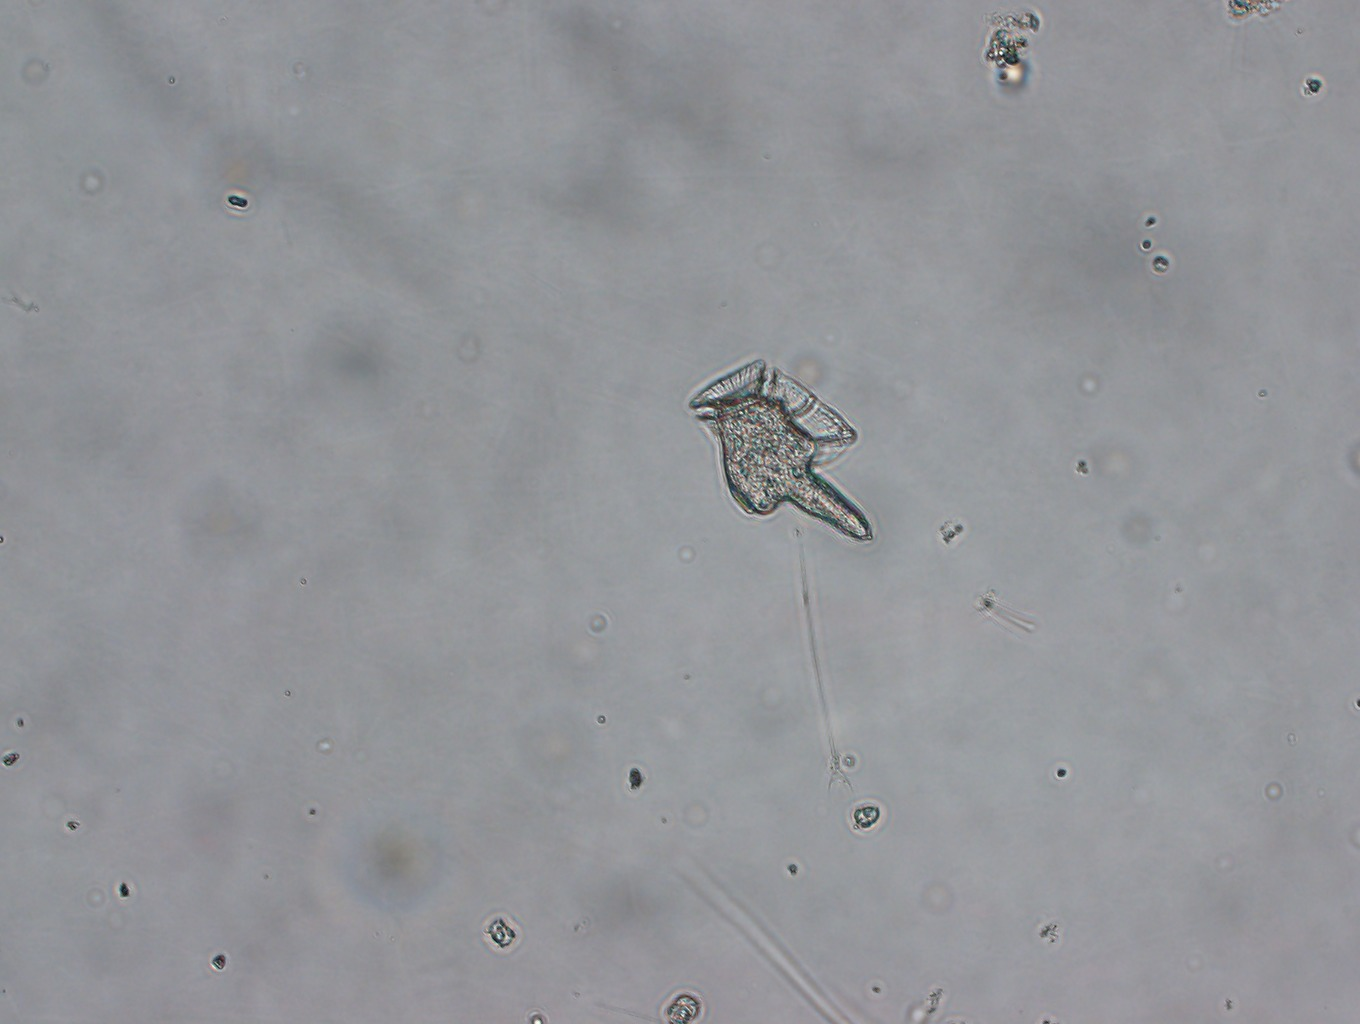dinophysis caudata: (674, 345, 881, 547)
